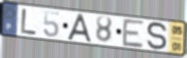5: (42, 10, 61, 38)
8: (94, 15, 114, 45)
A: (66, 13, 93, 44)
E: (122, 18, 146, 50)
L: (20, 8, 39, 36)
S: (146, 21, 169, 52)
